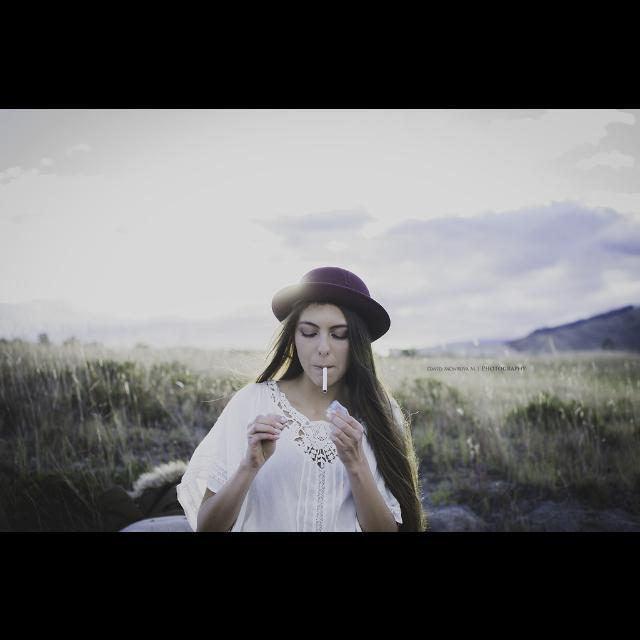rokok: (315, 364, 333, 394)
